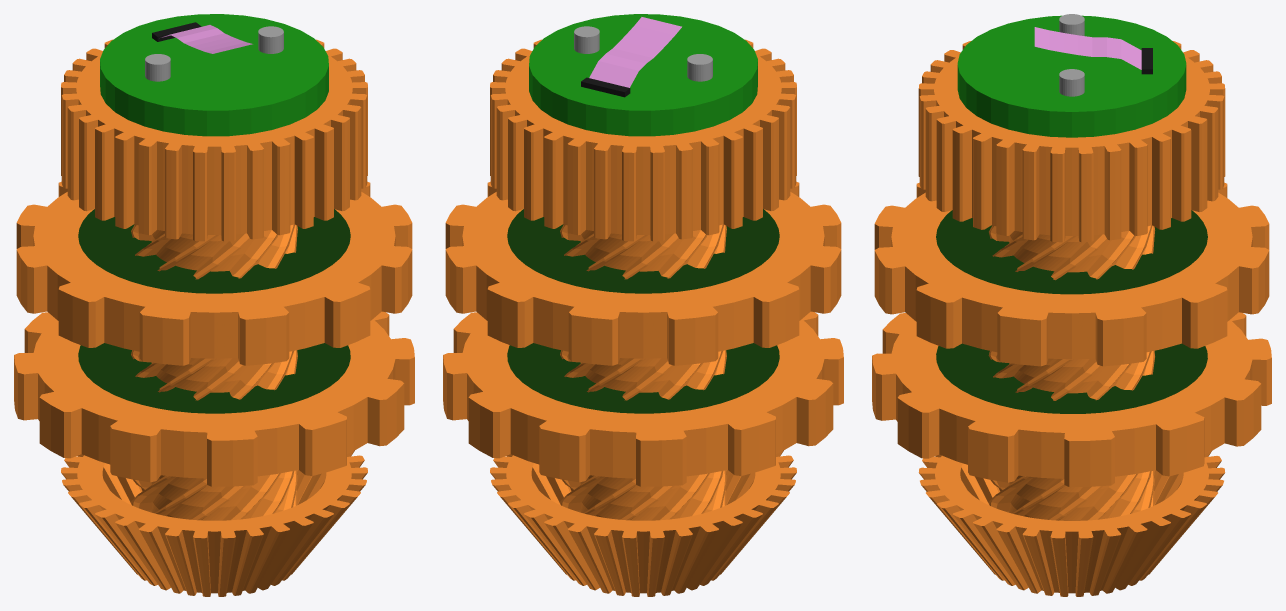
Rendered from Gears.fbx.
The picture shows the model from 3 angles, left to right: view 1: azimuth 30°, elevation 25°; view 2: azimuth 150°, elevation 25°; view 3: azimuth 270°, elevation 25°; orthographic projection.
Parts seen in each view (by area): view 1: Gear1, Gear2, Gear3, Gear4, Top, Wormgear, Gear2Inner, Gear3Inner, Bobins, Wire; view 2: Gear1, Gear2, Gear3, Gear4, Top, Wormgear, Gear2Inner, Gear3Inner, Wire, Bobins, WireBase; view 3: Gear1, Gear2, Gear3, Gear4, Top, Wormgear, Gear2Inner, Gear3Inner, Wire, Bobins.
Part boxes in pixels (x1,y1,x2,y2): Gear1: (61,39,367,241); Gear2: (16,181,412,365); Gear3: (14,311,414,486); Gear4: (61,450,367,596); Top: (100,14,328,136); Wormgear: (131,224,297,520); Gear2Inner: (78,209,350,293); Gear3Inner: (78,343,350,413); Bobins: (145,26,283,81); Wire: (161,25,252,53); Gear1: (490,39,796,241); Gear2: (445,181,841,365); Gear3: (443,311,843,486); Gear4: (490,450,796,596); Top: (529,14,757,136); Wormgear: (560,224,726,520); Gear2Inner: (507,209,779,293); Gear3Inner: (507,343,779,413); Wire: (589,17,681,87); Bobins: (574,26,712,81); WireBase: (581,77,630,97); Gear1: (918,41,1225,242); Gear2: (874,182,1269,366); Gear3: (872,312,1271,486); Gear4: (918,451,1225,596); Top: (957,15,1186,137); Wormgear: (988,225,1155,520); Gear2Inner: (936,210,1207,294); Gear3Inner: (936,343,1207,413); Wire: (1034,27,1141,69); Bobins: (1059,14,1084,96).
Size of the model in its own units: 184 by 267 by 184.
